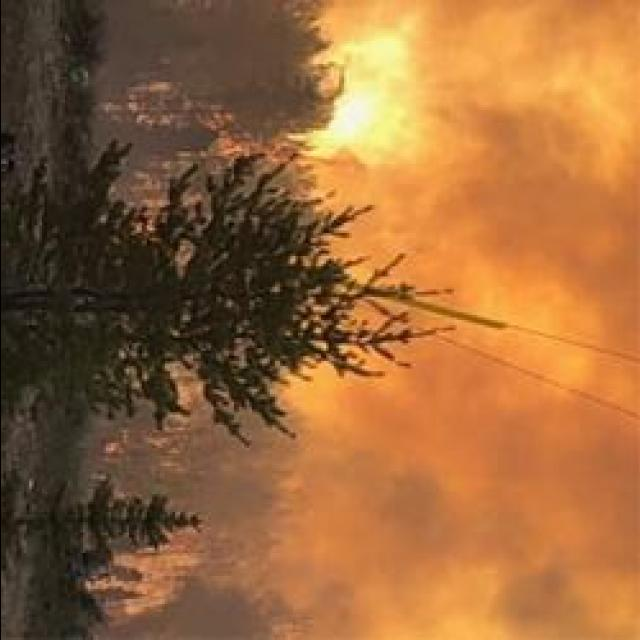fire: (296, 43, 410, 172)
smoke: (460, 103, 634, 301), (354, 489, 586, 637), (402, 384, 630, 486)
